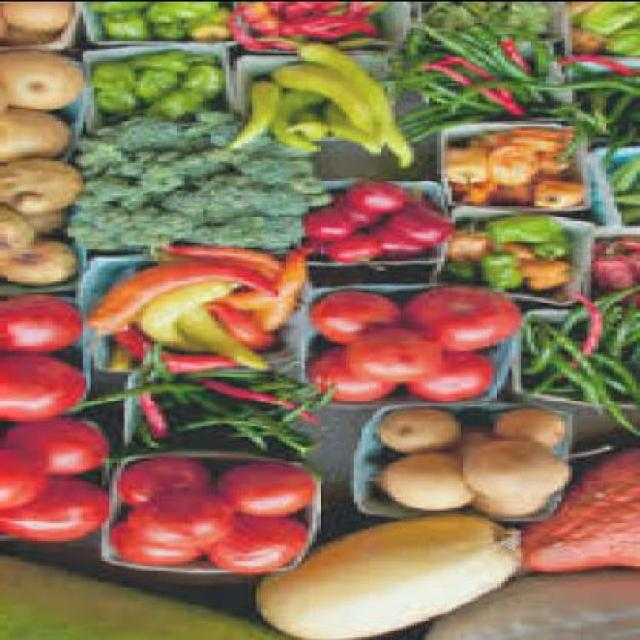BIODEGRADABLE: (72, 108, 339, 250), (259, 511, 527, 638), (259, 32, 418, 166), (87, 254, 282, 343), (430, 562, 638, 638), (526, 440, 639, 568), (169, 241, 305, 330), (270, 56, 384, 147), (527, 282, 628, 373), (550, 328, 639, 430), (406, 282, 523, 347), (143, 275, 248, 343), (426, 26, 497, 123), (124, 487, 238, 547), (471, 17, 542, 112), (4, 475, 113, 536), (192, 372, 336, 418), (4, 414, 113, 472), (117, 321, 245, 367), (211, 512, 312, 570), (4, 349, 90, 416), (467, 438, 571, 492), (222, 457, 324, 511), (222, 246, 312, 306), (182, 304, 270, 364), (313, 338, 402, 397), (4, 48, 90, 109), (68, 376, 215, 410), (388, 451, 478, 506), (4, 155, 90, 211), (113, 514, 215, 560), (350, 328, 444, 377), (425, 2, 560, 36), (316, 286, 402, 339), (3, 291, 83, 347), (226, 76, 286, 150), (4, 103, 74, 162), (121, 454, 210, 500), (414, 347, 497, 396), (564, 284, 610, 370), (272, 86, 332, 151), (452, 73, 557, 110), (211, 392, 278, 446), (399, 54, 475, 101), (380, 407, 463, 450), (403, 99, 492, 139), (4, 235, 79, 282), (199, 300, 279, 342), (554, 352, 606, 413), (384, 203, 459, 242), (527, 353, 587, 401), (3, 446, 49, 505), (278, 5, 377, 32), (498, 404, 568, 442), (535, 73, 639, 95), (482, 213, 568, 239), (598, 234, 638, 289), (576, 2, 638, 36), (542, 97, 606, 129), (6, 1, 72, 32), (354, 174, 414, 208), (128, 43, 200, 71), (154, 85, 214, 118), (235, 2, 280, 46), (493, 140, 545, 178), (328, 224, 388, 256), (335, 188, 391, 222), (169, 412, 268, 431), (482, 246, 530, 285), (180, 58, 226, 98), (452, 141, 498, 181), (508, 24, 542, 78), (4, 201, 41, 250), (143, 382, 180, 431), (312, 203, 365, 237), (136, 65, 184, 102), (448, 222, 497, 256), (478, 489, 553, 511), (271, 420, 324, 451), (538, 174, 588, 206), (606, 110, 639, 158), (588, 77, 622, 123), (560, 49, 638, 69), (384, 222, 430, 255), (106, 6, 154, 37), (516, 125, 576, 149), (524, 258, 579, 284), (98, 58, 144, 88), (147, 1, 222, 19), (602, 89, 638, 125), (459, 416, 501, 446), (151, 336, 177, 382), (342, 121, 384, 148), (282, 392, 316, 425), (30, 202, 72, 228), (614, 348, 638, 392), (102, 85, 143, 110), (490, 179, 536, 201), (459, 179, 501, 203), (534, 228, 572, 254), (532, 312, 553, 358), (606, 23, 639, 52), (610, 152, 638, 186), (306, 381, 342, 405), (86, 1, 152, 14), (294, 116, 331, 138), (579, 24, 610, 50), (282, 1, 328, 17), (541, 35, 554, 90), (196, 15, 233, 34), (471, 129, 512, 146), (501, 239, 542, 255), (158, 15, 192, 34), (328, 1, 397, 10), (139, 424, 170, 444), (302, 233, 338, 250), (550, 146, 572, 171), (114, 340, 135, 366), (452, 257, 478, 275), (622, 185, 638, 206), (628, 200, 638, 218)
